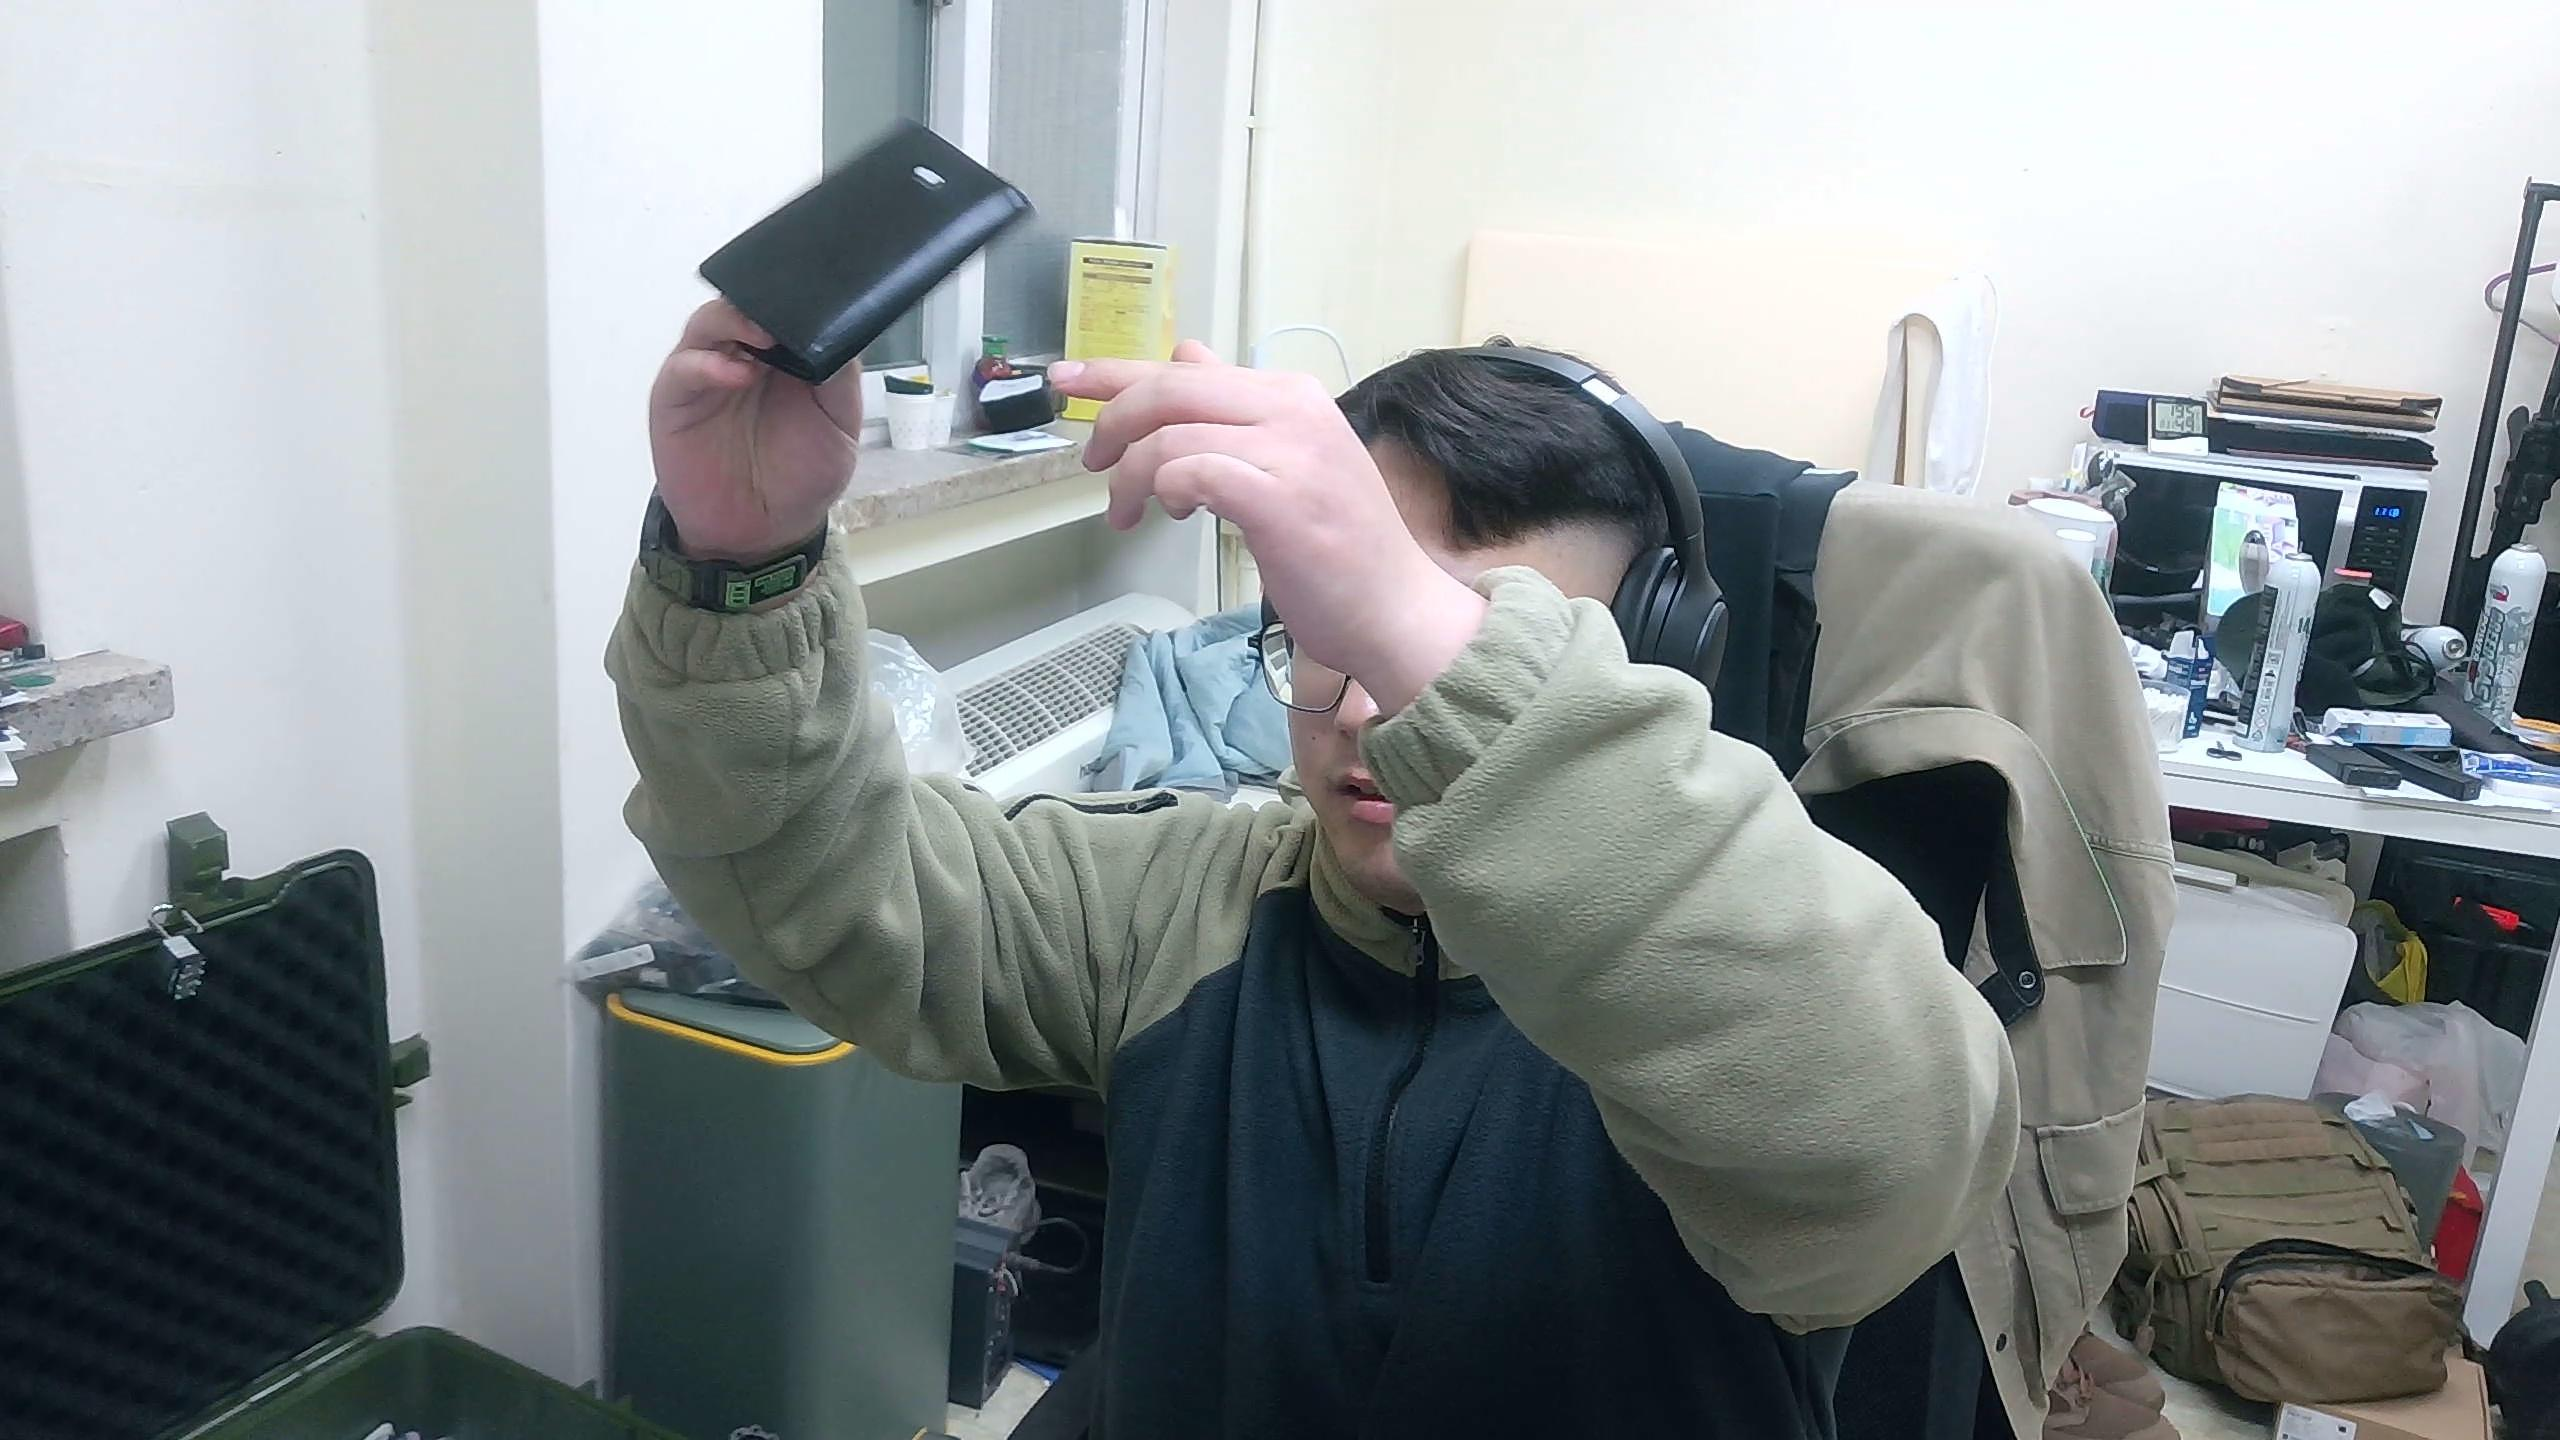Wallet: (698, 116, 1037, 389)
